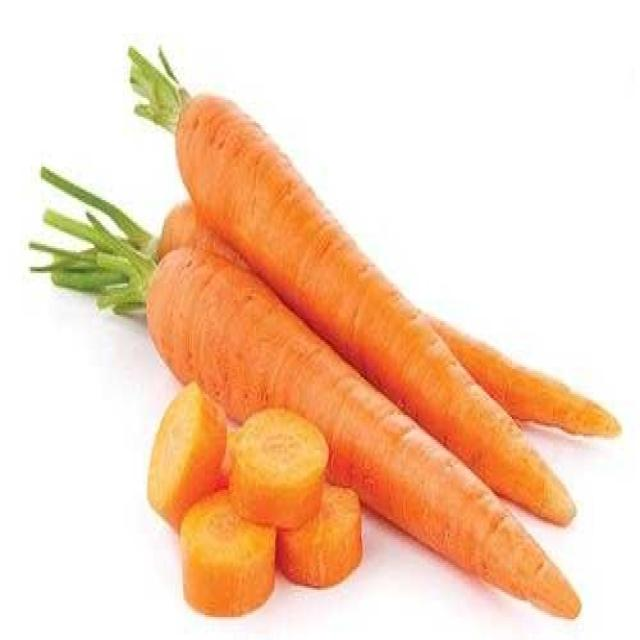carrots: (85, 62, 610, 634)
